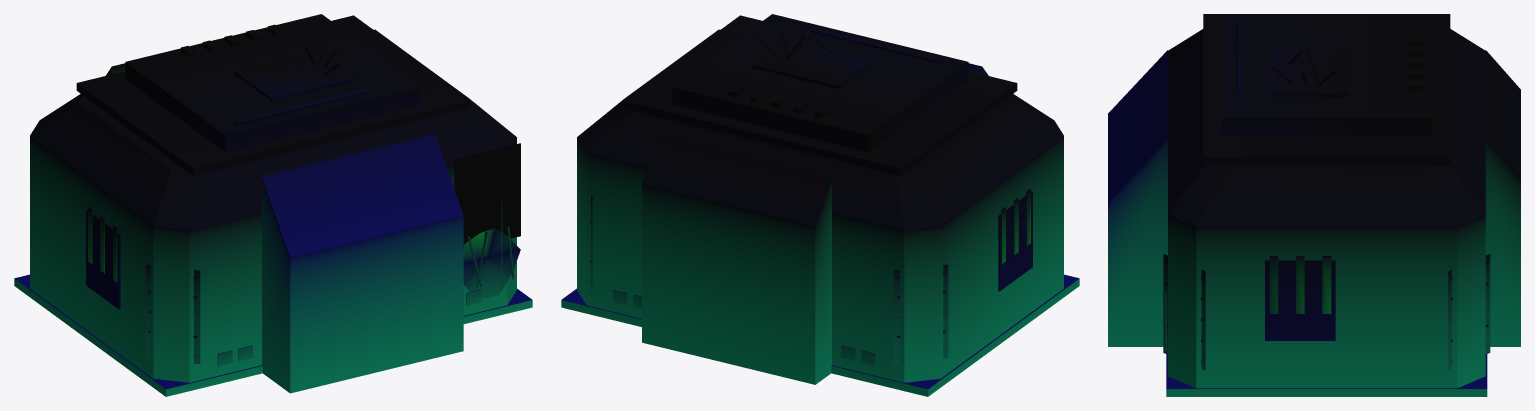
Rendered from centerlobby_damaged.glb.
3 renders of one model, left to right at view 1: azimuth 30°, elevation 25°; view 2: azimuth 150°, elevation 25°; view 3: azimuth 270°, elevation 25°, orthographic. The views are drawn at different scales.
Visible parts, largest first — view 1: lod0; view 2: lod0; view 3: lod0.
Boxes of the visible parts, box(x1,y1,x2,y2) form: lod0: box(14, 14, 532, 396); lod0: box(561, 14, 1079, 396); lod0: box(1108, 14, 1520, 396).
Size of what is drawn, in the model's own units: 25.65 by 16.56 by 23.4.
